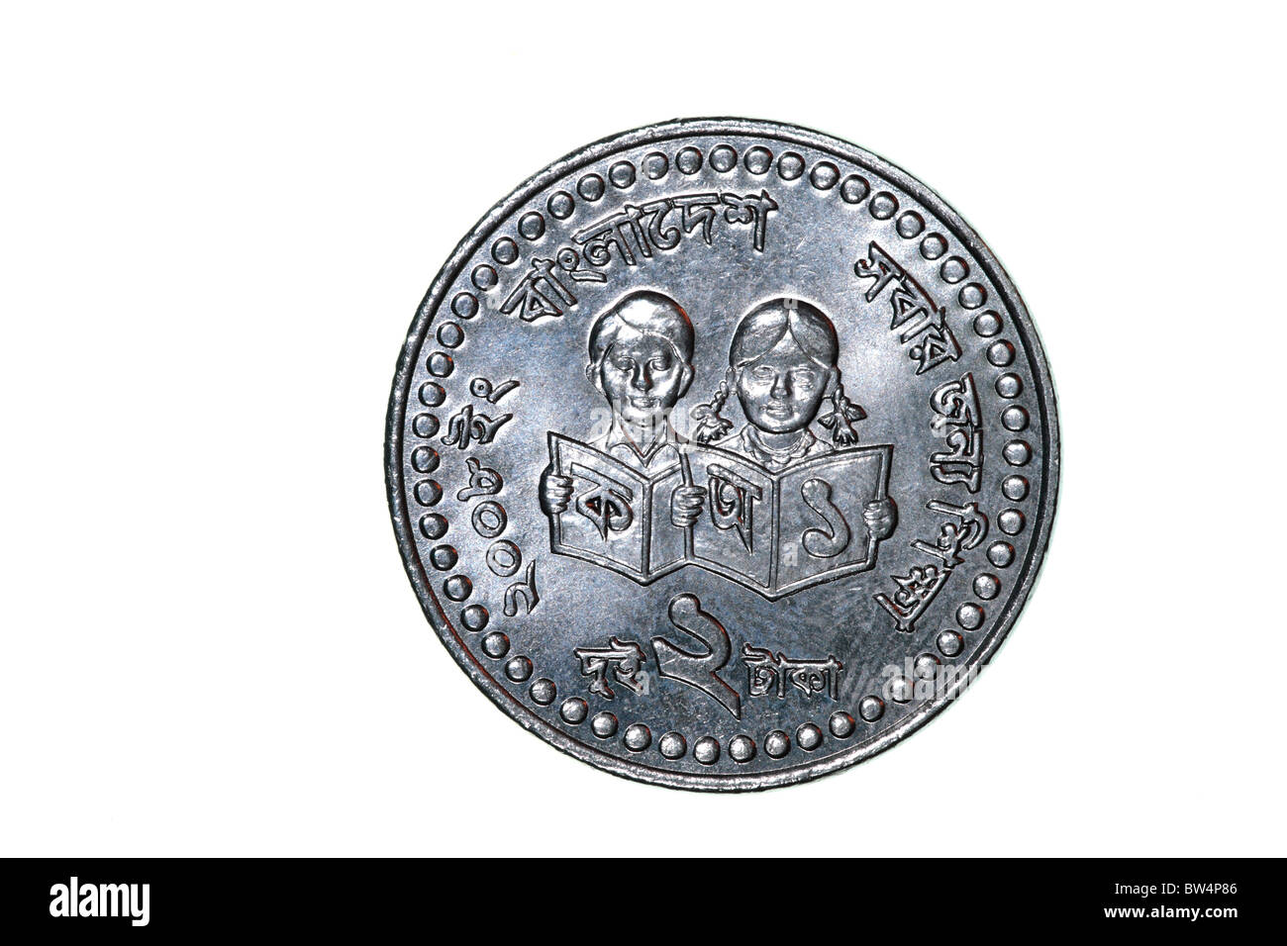5 taka coin: (387, 116, 1066, 790)
